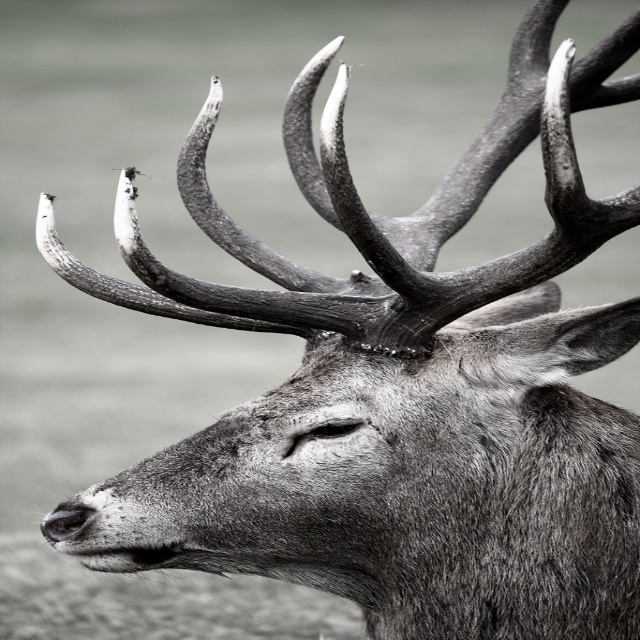Deer: (33, 0, 640, 640)
